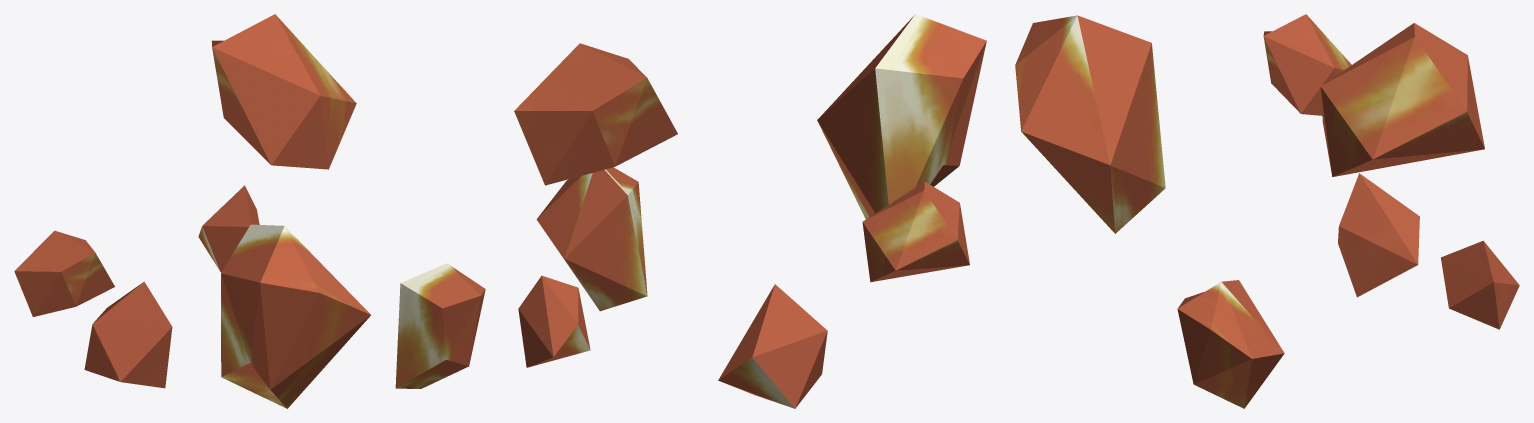
3 views of the same model, side by side, from view 1: azimuth 30°, elevation 25°; view 2: azimuth 150°, elevation 25°; view 3: azimuth 270°, elevation 25° (orthographic). The views are drawn at different scales.
Parts seen in each view (by area): view 1: Object01; view 2: Object01; view 3: Object01.
Part boxes in pixels (<box>): Object01: <box>14,14,485,408</box>; Object01: <box>514,14,986,408</box>; Object01: <box>1015,14,1519,408</box>.
Bounding box in the file's own units: 8.58 × 8.47 × 6.3.
